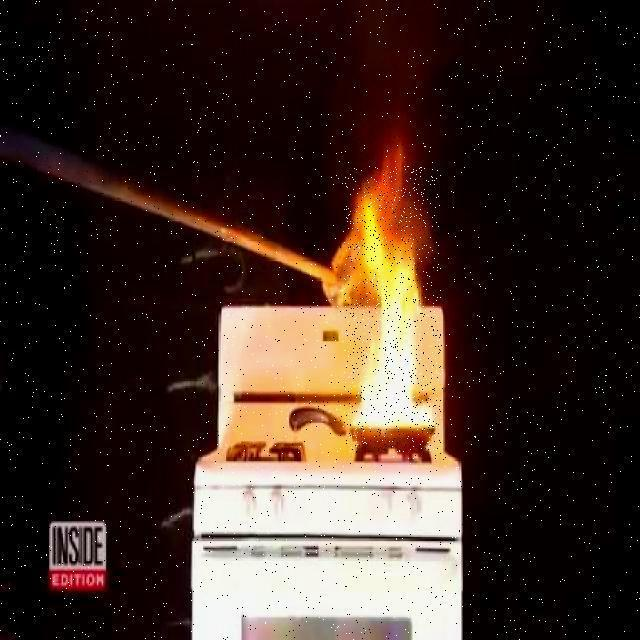Fire: (330, 144, 435, 430)
